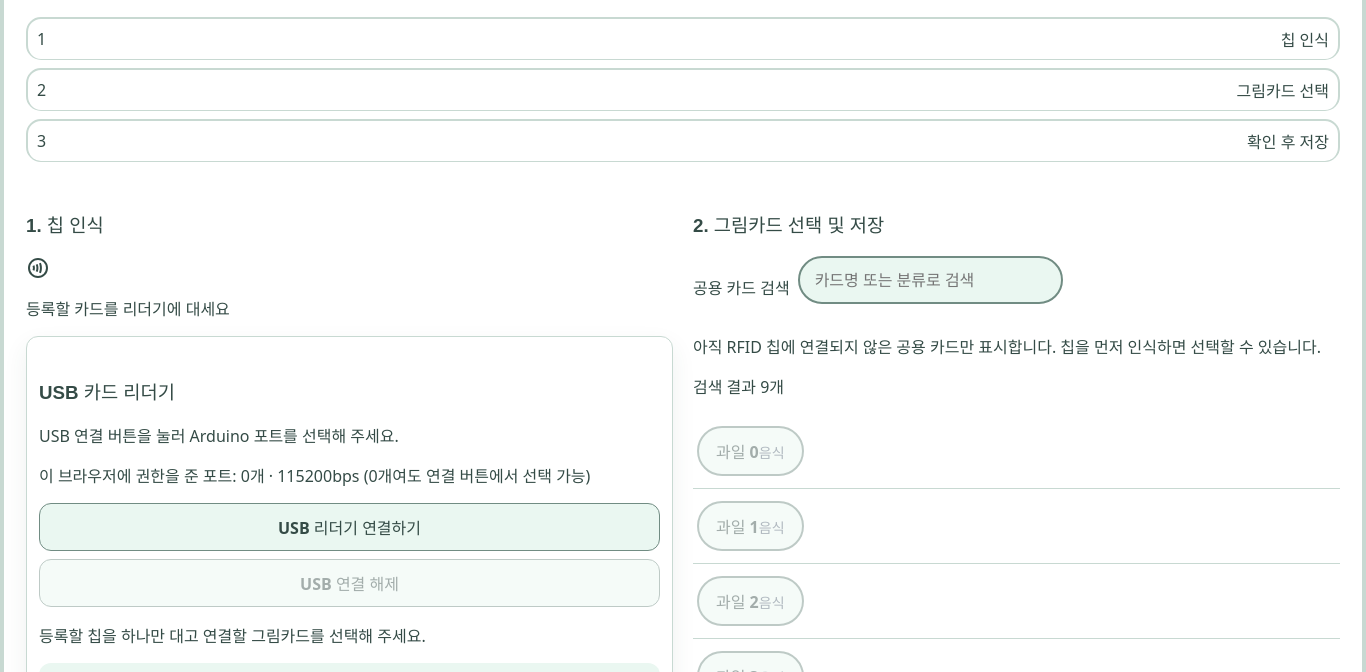
Scenario: only shows unmapped public cards even when searching for a mapped card
Step 1. Type "음료" into the search field labelled "공용 카드 검색" → point(930, 280), box top-left (798, 256), bottom-right (1063, 304)
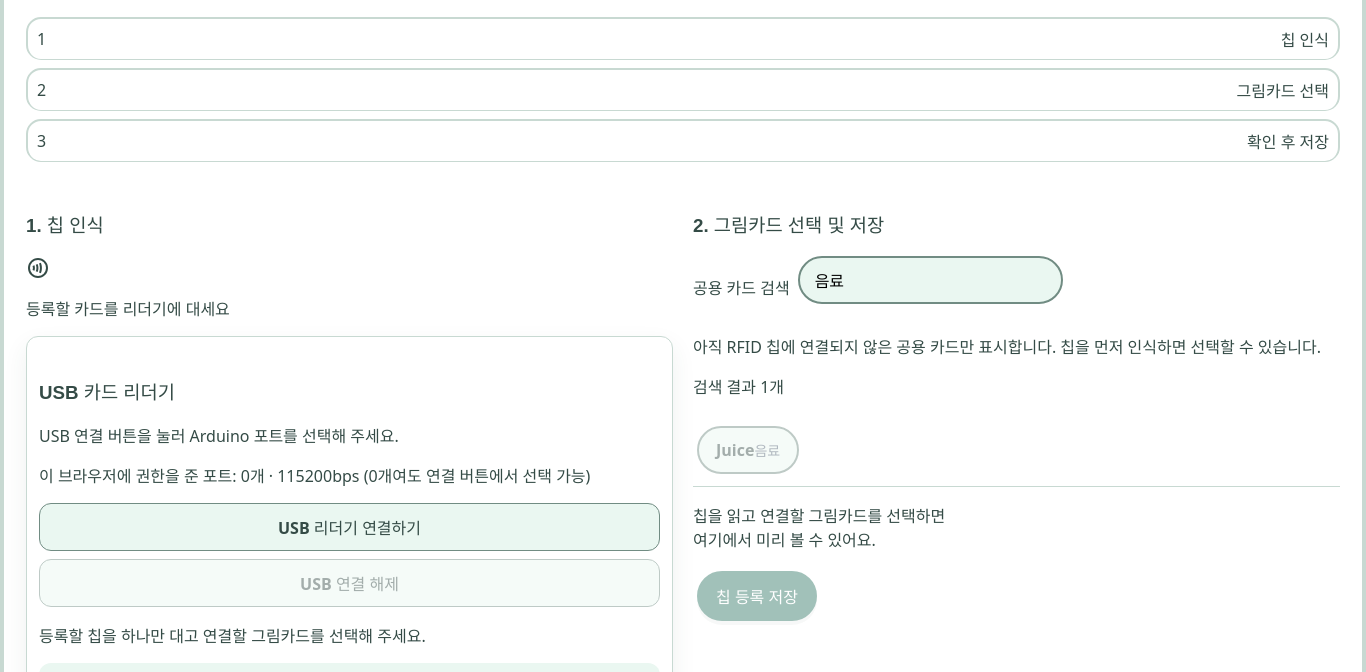
Check: the button "Juice" is shown, box top-left (697, 426), bottom-right (799, 474)
Step 2. Replace the text in the search field labelled "공용 카드 검색" with "물" → point(930, 280), box top-left (798, 256), bottom-right (1063, 304)
(page scrolled)
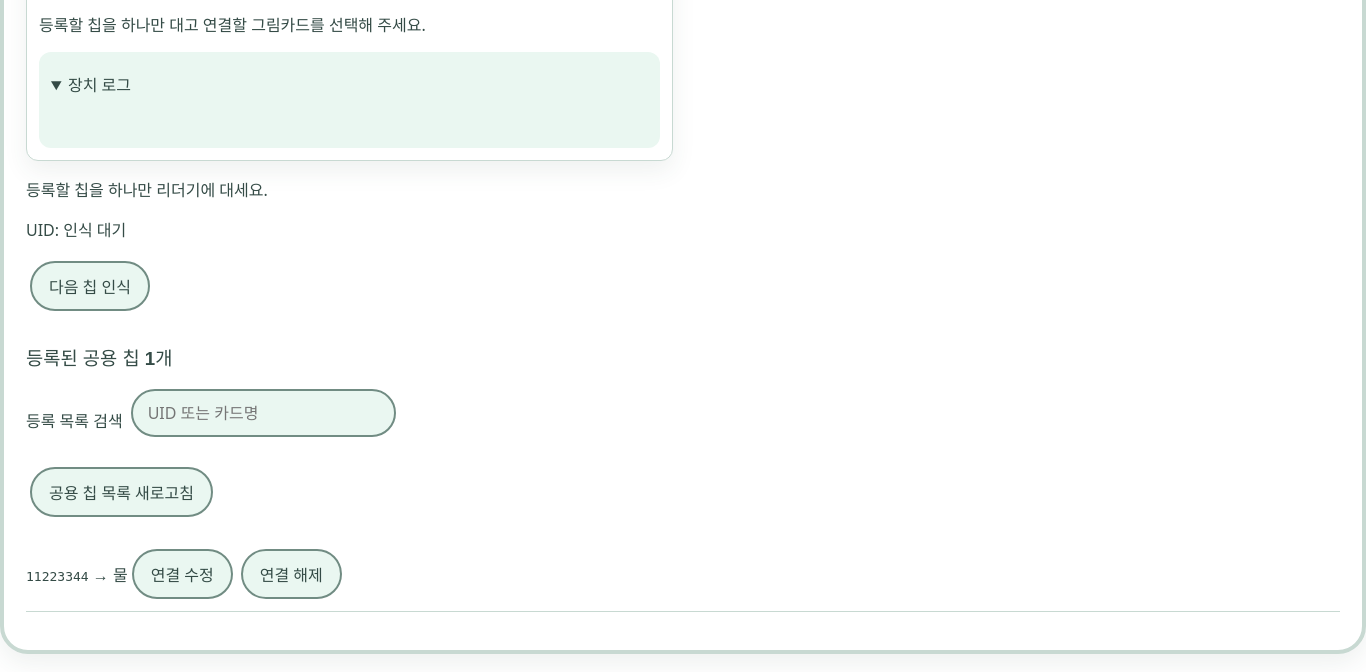
Step 3. Click the button "연결 수정" → point(182, 574), box top-left (132, 549), bottom-right (233, 599)
(page scrolled)
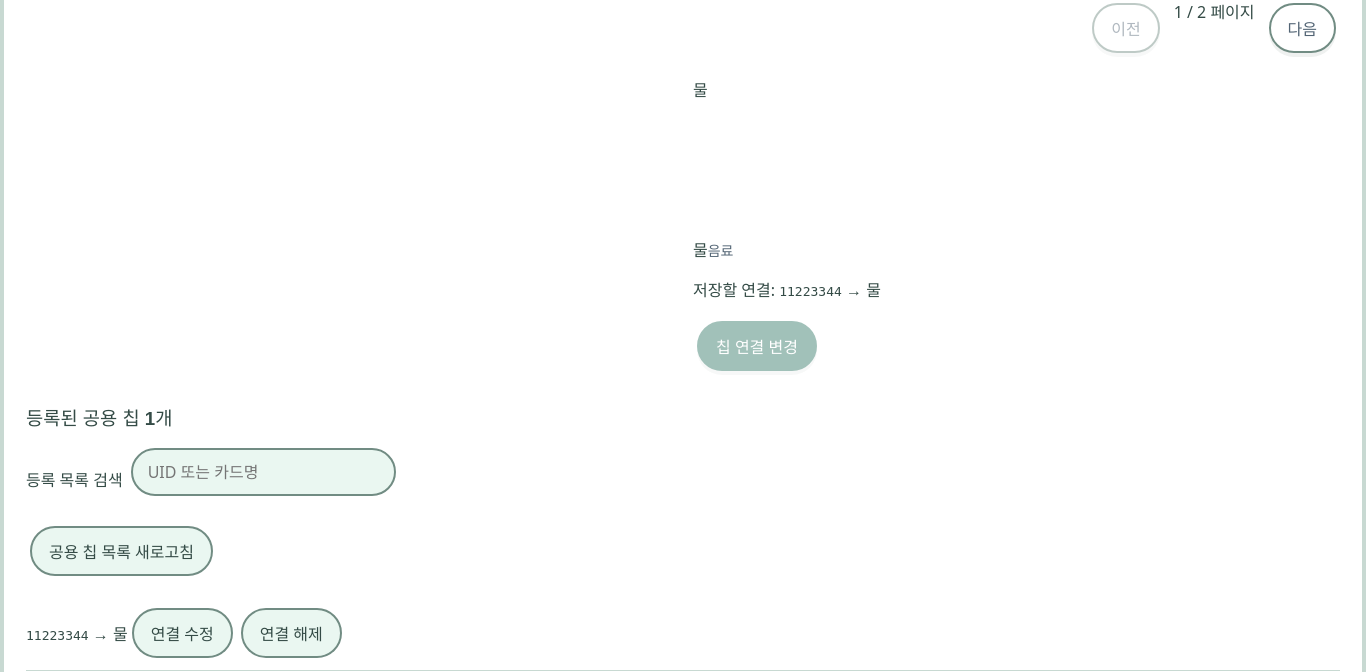
Check: the text "저장할 연결:" shows "물", box top-left (866, 279), bottom-right (881, 301)
